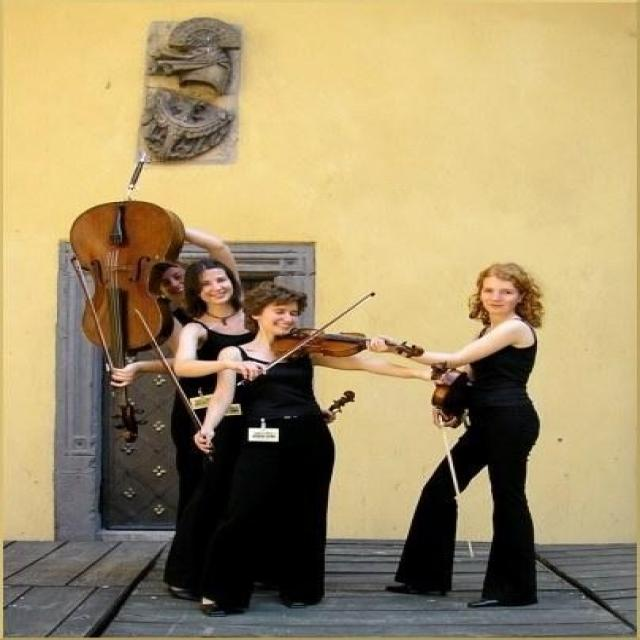cello: (68, 194, 184, 447)
violin: (268, 326, 428, 360), (416, 360, 473, 424)
